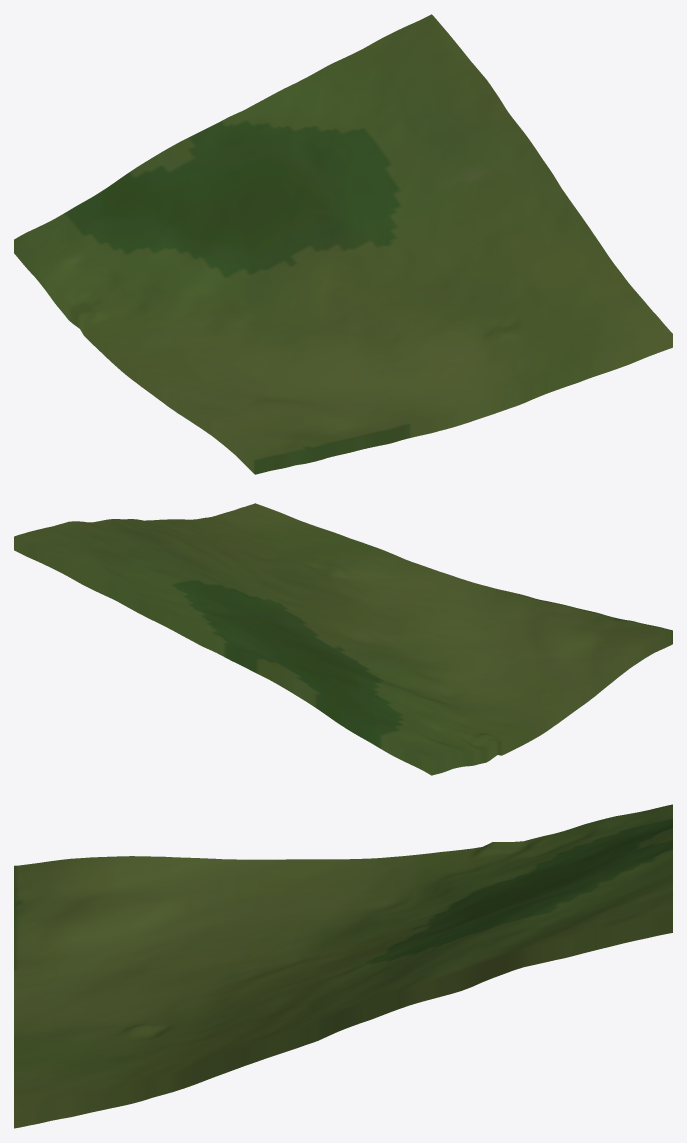
File: terrain_10_-13.glb
The picture shows the model from 3 angles, top to bottom: view 1: azimuth 30°, elevation 25°; view 2: azimuth 150°, elevation 25°; view 3: azimuth 270°, elevation 25°; orthographic projection. The views are drawn at different scales.
Parts seen in each view (by area): view 1: terrain_10_-13; view 2: terrain_10_-13; view 3: terrain_10_-13.
Part boxes in pixels (x1,y1,x2,y2): terrain_10_-13: (14,14,672,474); terrain_10_-13: (14,503,672,775); terrain_10_-13: (14,804,672,1128).
Size of the model in its own units: 256 by 108 by 256.
